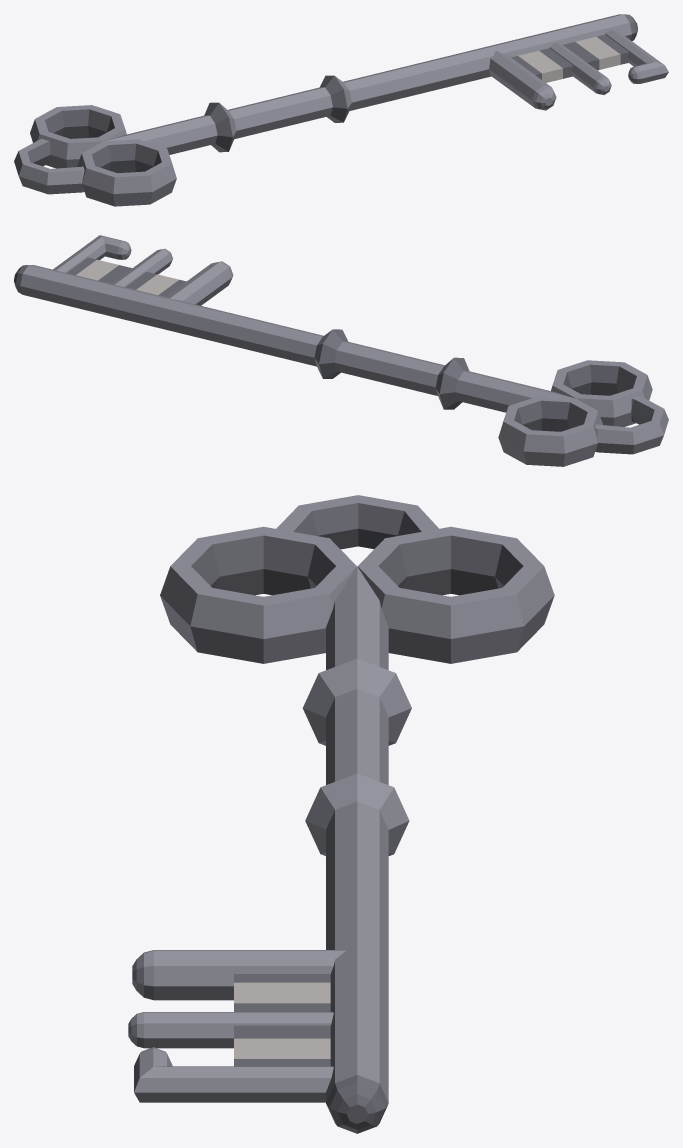
File: Silver_Key.glb
3 renders of one model, top to bottom at view 1: azimuth 30°, elevation 25°; view 2: azimuth 150°, elevation 25°; view 3: azimuth 270°, elevation 25°, orthographic. The views are drawn at different scales.
Visible parts, largest first — view 1: KeySilver; view 2: KeySilver; view 3: KeySilver.
Boxes of the visible parts, x1=… form: KeySilver: x1=14, y1=14, x2=668, y2=206; KeySilver: x1=14, y1=235, x2=668, y2=466; KeySilver: x1=128, y1=495, x2=554, y2=1133.
Size of what is drawn, in the model's own units: 0.6057 by 0.0465 by 0.1814.
1 material, 1 textured.
